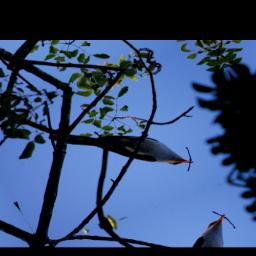Cuckoo: (64, 105, 197, 197)
